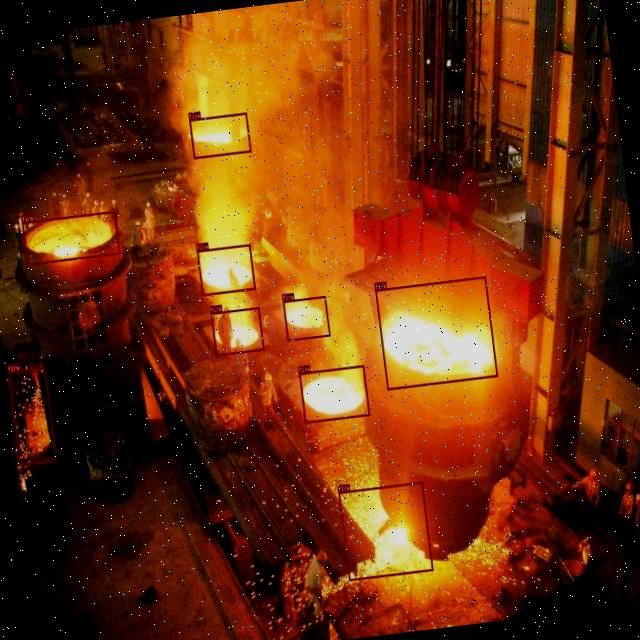fire: (374, 276, 498, 390), (338, 480, 432, 580), (20, 210, 120, 265), (8, 366, 56, 465), (298, 364, 370, 422), (196, 243, 255, 294), (188, 112, 250, 158), (210, 306, 264, 356), (282, 294, 330, 340)
